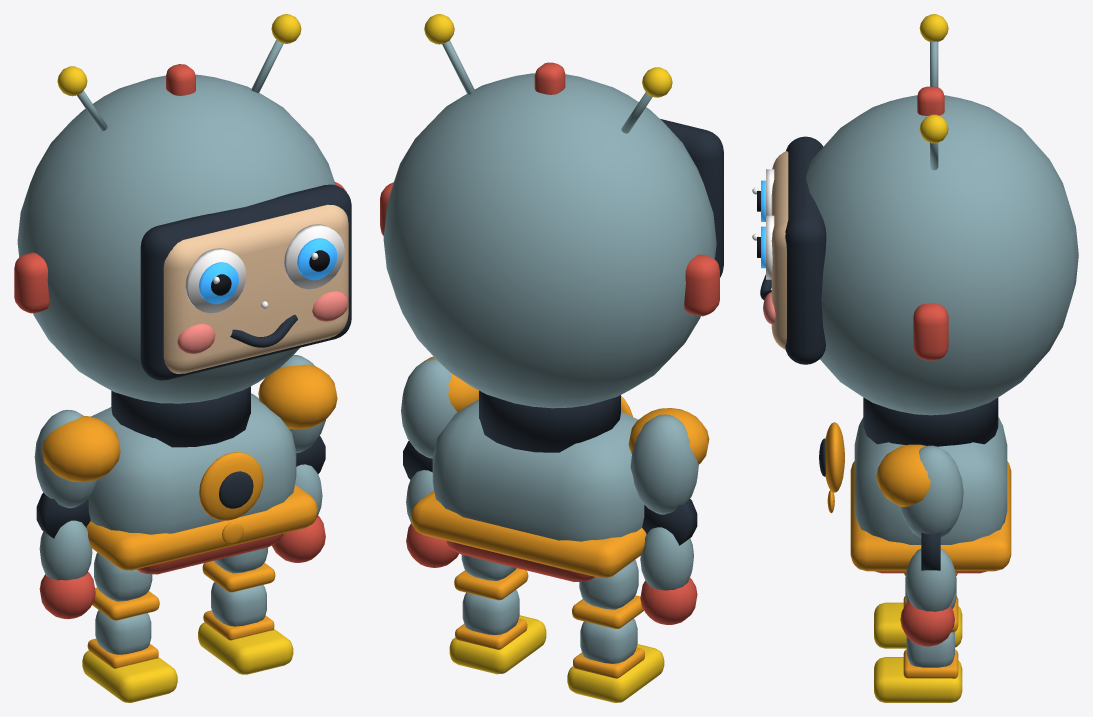
Rendered from sprocket.glb.
3 views of the same model, side by side, from view 1: azimuth 30°, elevation 25°; view 2: azimuth 150°, elevation 25°; view 3: azimuth 270°, elevation 25° (orthographic). The views are drawn at different scales.
Visible parts, largest first — view 1: Helmet, Face, Body, FaceTrim, WaistStripe, Neck, PauldronL, PauldronR, BootR, BootL, ForearmL, DialOuter (+29 smaller); view 2: Helmet, Body, WaistStripe, Neck, UpperArmL, UpperArmR, FaceTrim, ForearmL, BootR, BootL, ShinL, ShinR (+19 smaller); view 3: Helmet, Body, FaceTrim, WaistStripe, Neck, UpperArmR, Face, BootR, PauldronR, ForearmR, EarPodRight, HandR (+8 smaller).
Boxes of the visible parts, x1,y1,x2,y2 form: Helmet: (17,74,335,403); Face: (163,204,348,373); Body: (88,393,296,534); FaceTrim: (140,184,351,380); WaistStripe: (86,484,317,570); Neck: (111,386,250,447); PauldronL: (42,416,120,482); PauldronR: (258,364,337,429); BootR: (198,622,293,674); BootL: (82,650,177,702); ForearmL: (39,520,92,580); DialOuter: (199,452,263,520); Helmet: (383,73,716,408); Body: (432,399,644,541); WaistStripe: (410,490,646,577); Neck: (479,390,620,452); UpperArmL: (630,414,698,514); UpperArmR: (401,358,457,458); FaceTrim: (660,119,723,277); ForearmL: (640,527,693,590); BootR: (449,615,546,674); BootL: (567,644,664,702); ShinL: (580,618,637,663); ShinR: (462,590,519,634); Helmet: (806,95,1078,415); Body: (854,417,1007,544); FaceTrim: (785,136,826,364); WaistStripe: (850,461,1011,571); Neck: (863,397,998,446); UpperArmR: (899,445,963,537); Face: (771,151,788,349); BootR: (874,657,962,702); PauldronR: (876,444,930,506); ForearmR: (905,548,956,611); EarPodRight: (913,303,948,360); HandR: (900,600,954,646).
Bounding box in the file's own units: 2.26 × 4.12 × 2.03.
